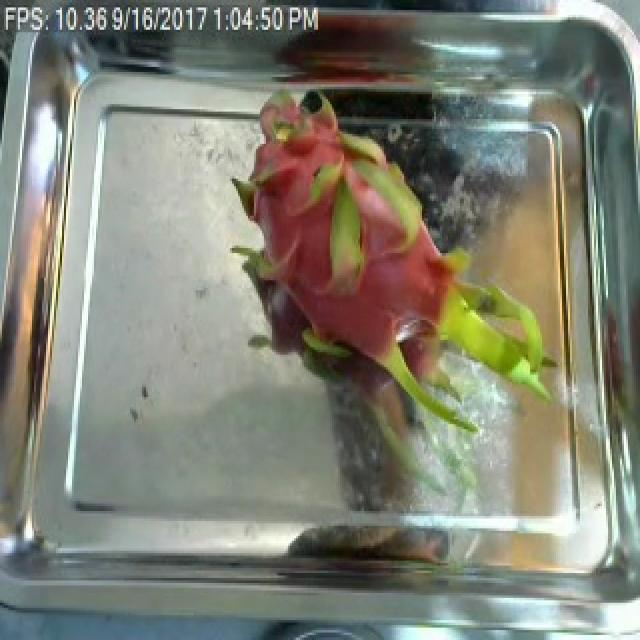fruit: (208, 77, 548, 459)
